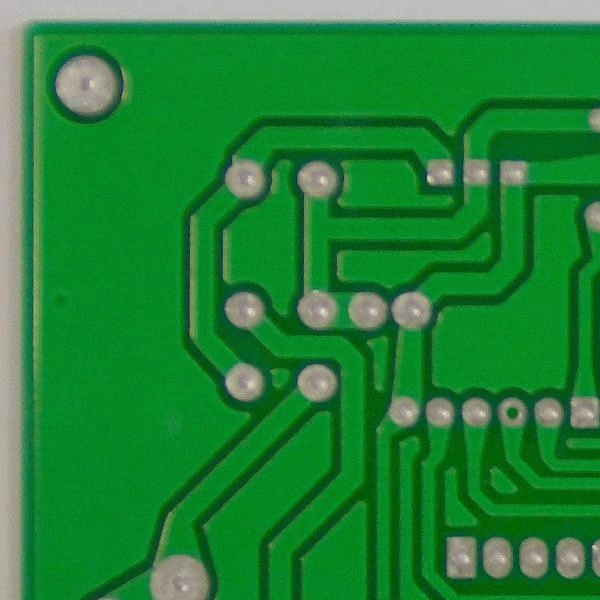missing_hole: (495, 396, 531, 431)
